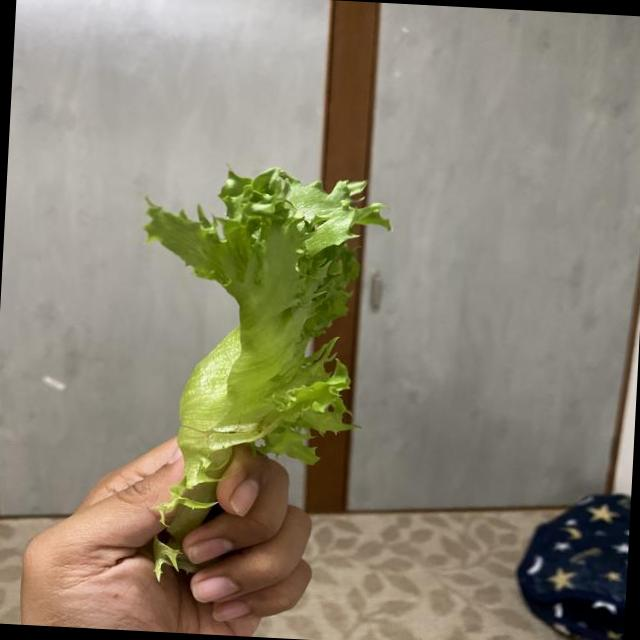Lettuce-Ready-to-Harvest: (145, 168, 389, 576)
